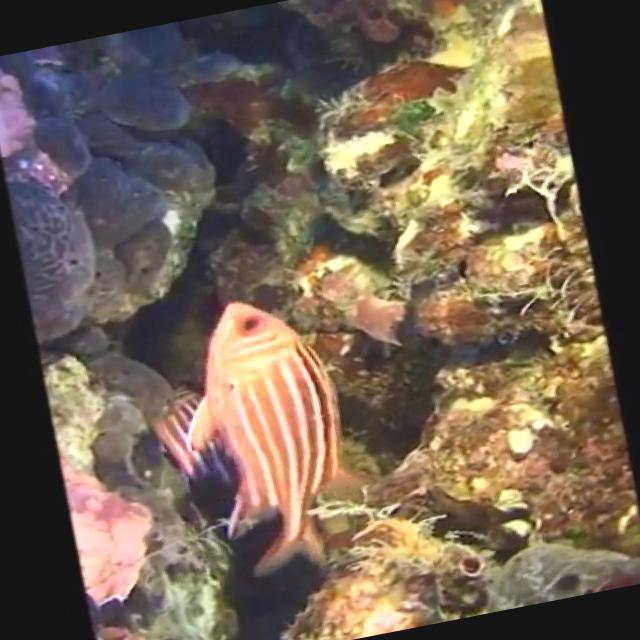Asker Baligi: (130, 282, 378, 594)
